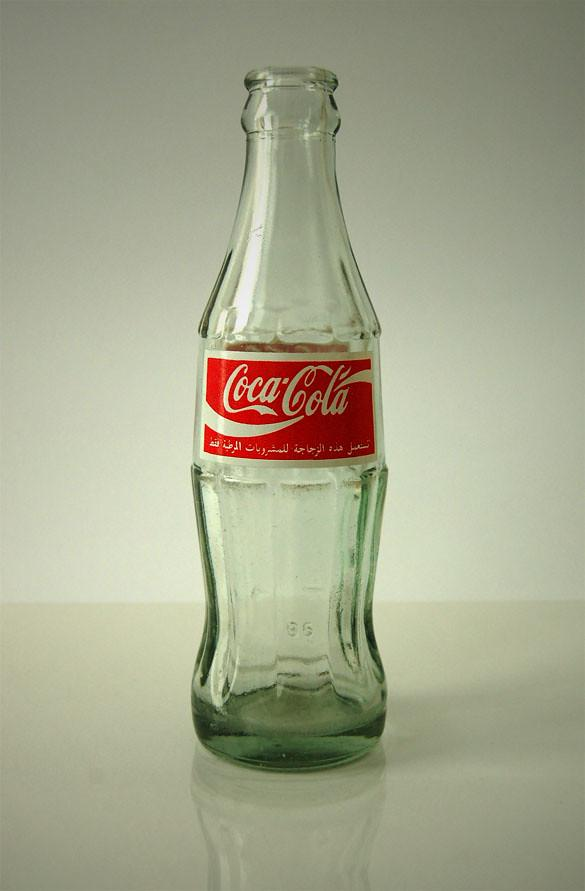bottle: (190, 65, 390, 773)
